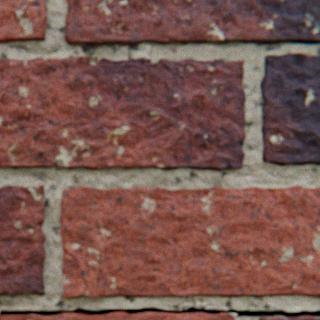brick: (60, 186, 319, 298), (0, 57, 244, 171), (64, 0, 319, 47), (259, 54, 319, 166), (0, 185, 45, 295), (0, 0, 46, 44), (0, 312, 236, 319), (289, 316, 319, 319), (258, 317, 285, 319)
crack: (0, 305, 319, 319)
